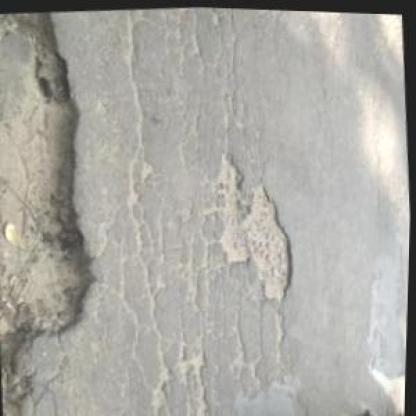pothole: (0, 9, 119, 414), (213, 144, 301, 305)
